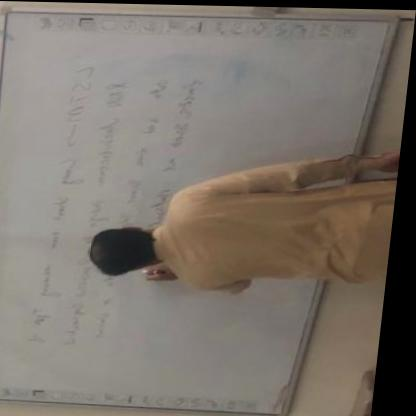Handwritten text: (55, 70, 140, 350), (25, 58, 105, 351), (139, 67, 217, 231), (120, 74, 176, 211)
Lecturer: (87, 169, 375, 312)
Whiteboard: (0, 11, 395, 415)
